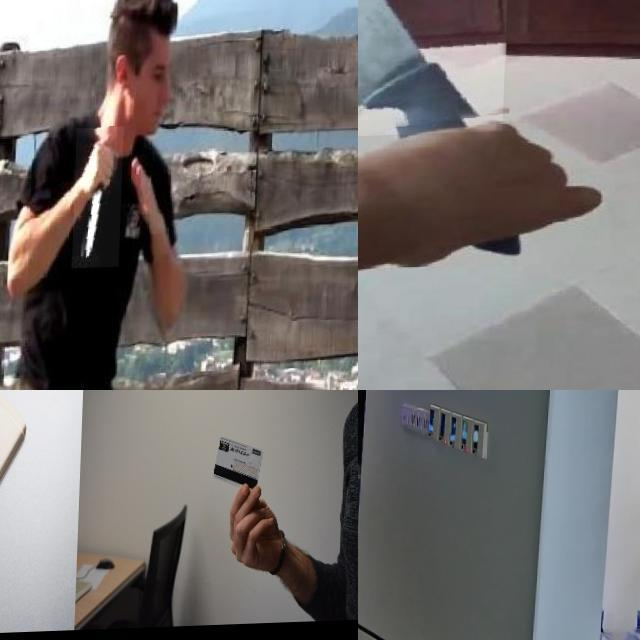-: (358, 0, 513, 143), (74, 128, 126, 269)
